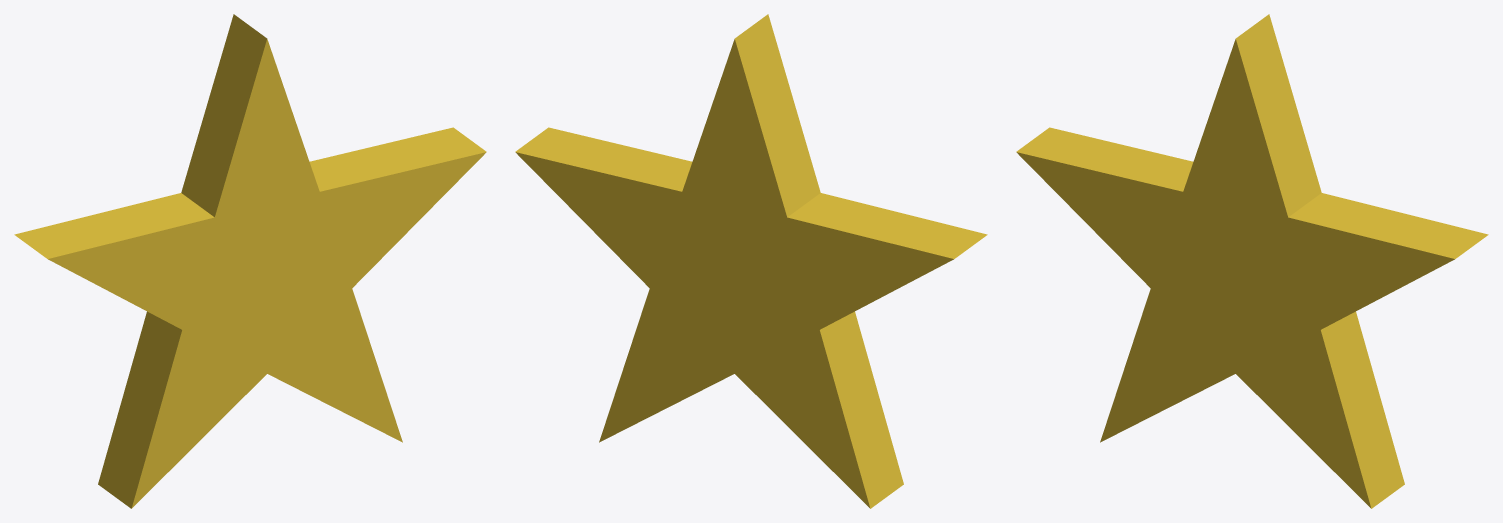
The model's file is Bintang1.fbx.
The picture shows the model from 3 angles, left to right: view 1: azimuth 30°, elevation 25°; view 2: azimuth 150°, elevation 25°; view 3: azimuth 330°, elevation 25°; orthographic projection.
Visible parts, largest first — view 1: Cylinder.003; view 2: Cylinder.003; view 3: Cylinder.003.
Part boxes in pixels (bbox=[...]): Cylinder.003: bbox=[14, 14, 486, 508]; Cylinder.003: bbox=[515, 14, 987, 508]; Cylinder.003: bbox=[1016, 14, 1488, 508].
Size of the model in its own units: 25.28 by 24.04 by 3.34.
